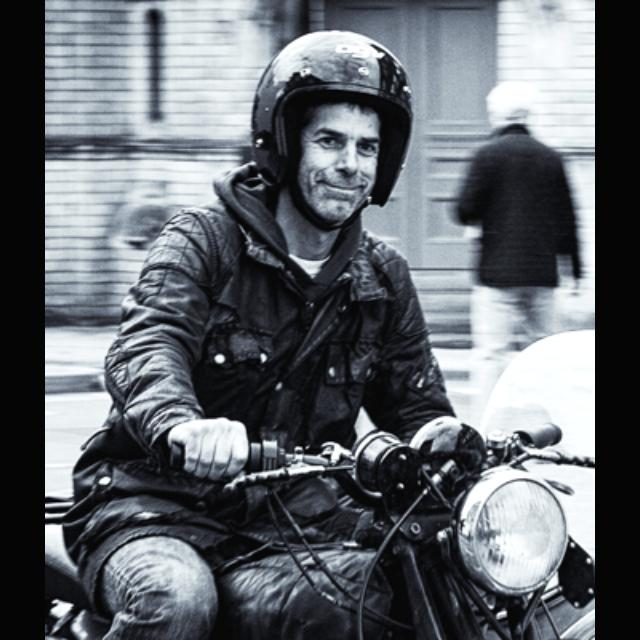With Helmet: (256, 16, 422, 218)
